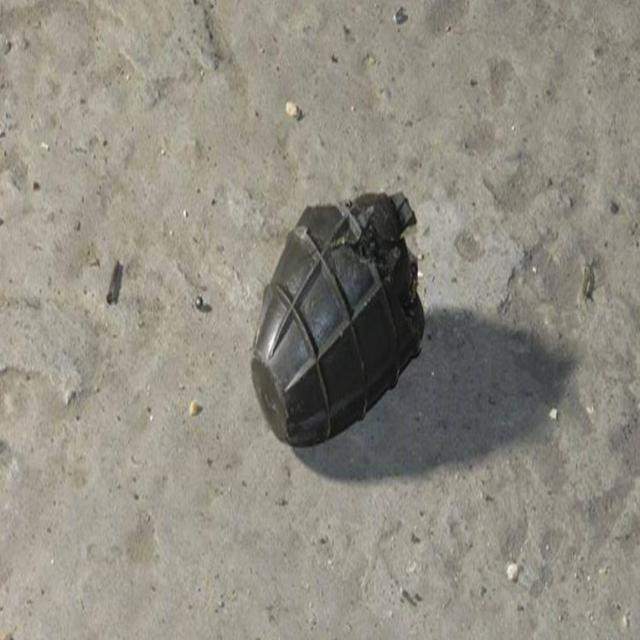grenade: (253, 192, 428, 448)
